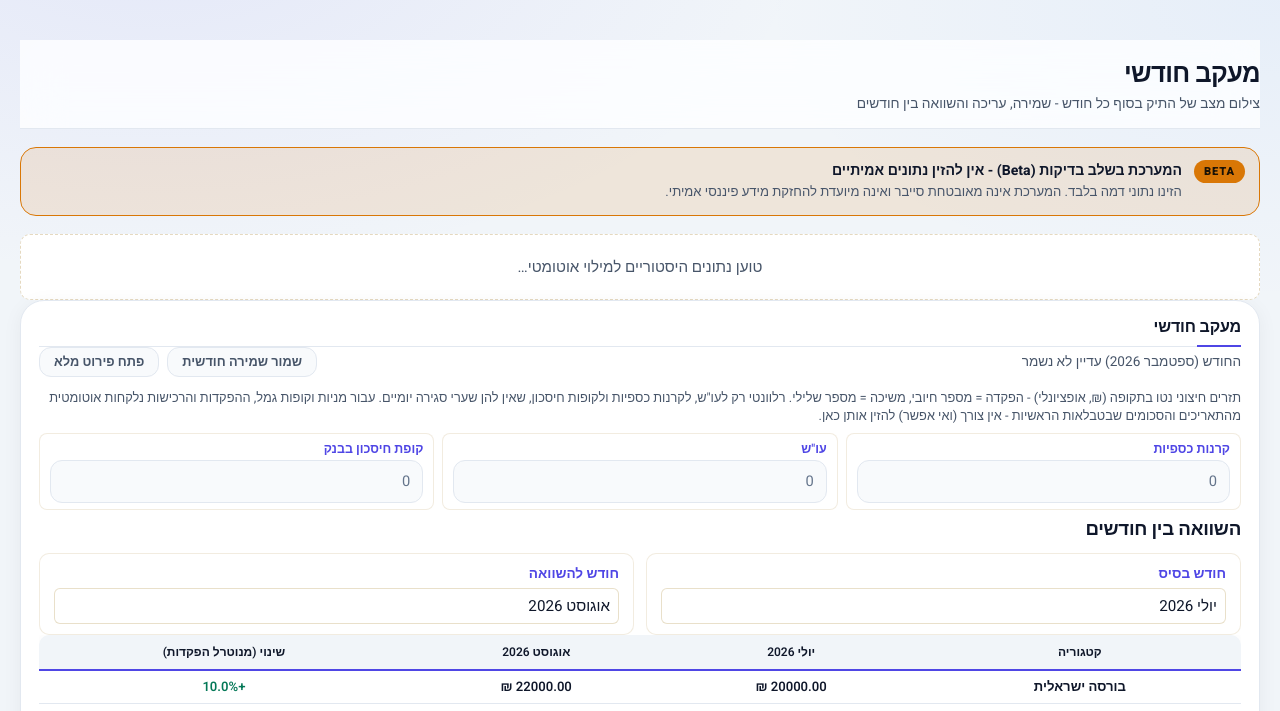
Test: MonthlyTrackerView › the history section shows only one month at a time - defaulting to the most recently saved one - with category subtotals, and reveals items when detailed view i
Expected: the element with class "monthly-history-card" does not show "יולי 2026"
Expected: the element with class "monthly-history-card" does not show "TEVA"
Click the button "פתח פירוט מלא" at (99,362), box [39, 347, 159, 377]
(page scrolled)
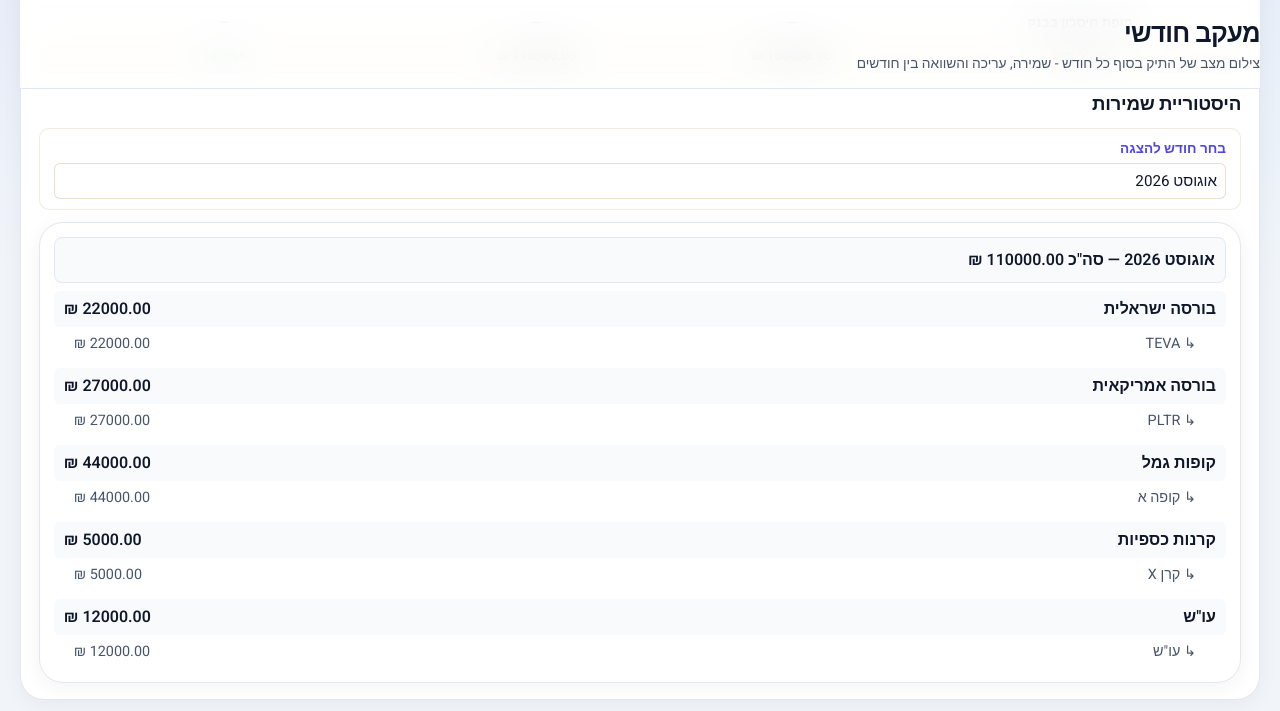
Result: the element with class "monthly-history-card" shows "TEVA" at [1146, 334, 1180, 354]
